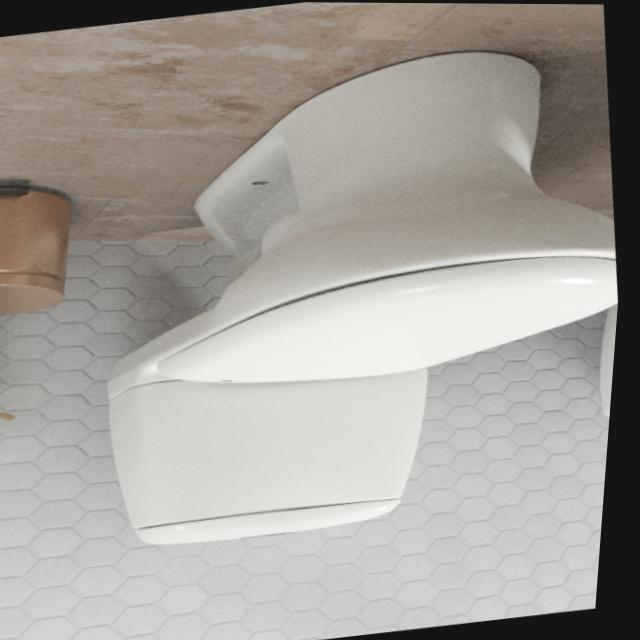toilet: (65, 32, 638, 557)
